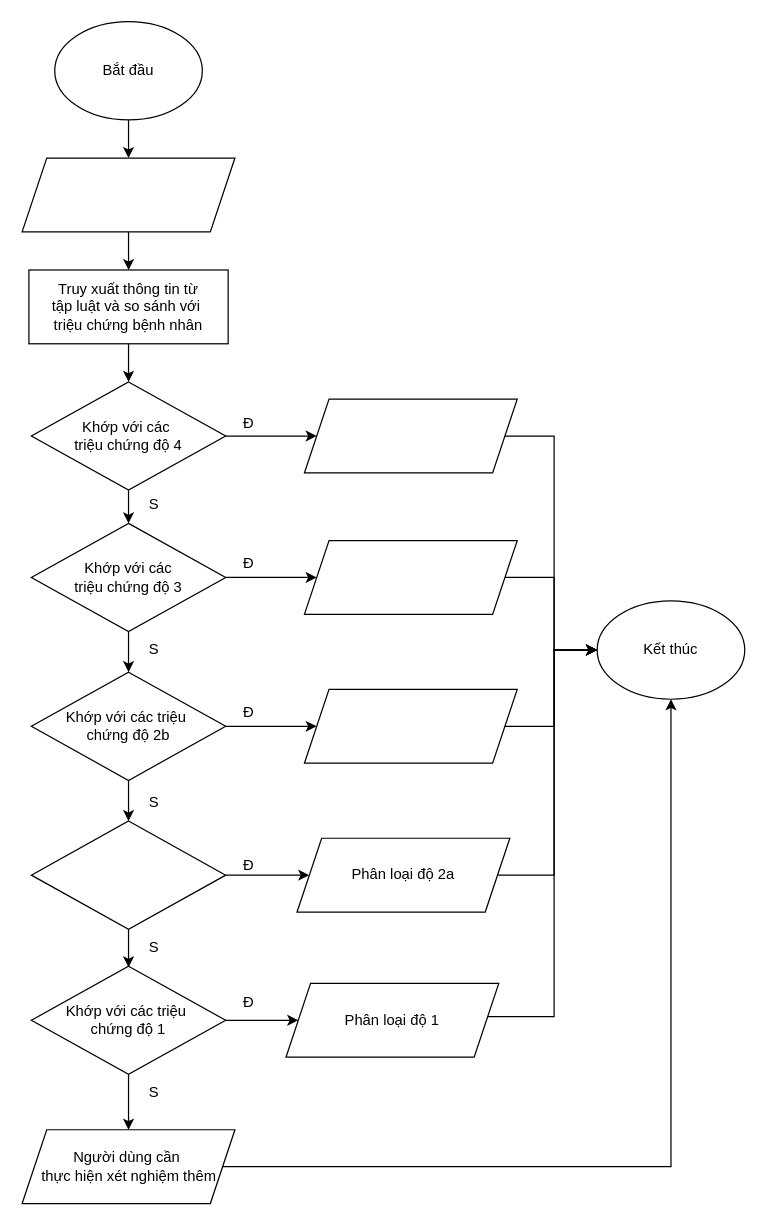
Some shapes in this 766 by 1225 pixel diagram are drawn without their labels. The shapes that lost their labels are listed below. From the top down, each one's box as (x1, y1, x2, y2) in pixels, then its label:
(21, 157, 235, 232): Nhập thông tin
(303, 398, 517, 473): Phân loại độ 4
(303, 539, 517, 614): Phân loại độ 3
(303, 688, 517, 763): Phân loại độ 2b
(30, 820, 226, 929): Khớp với các triệu chứng độ 2a
